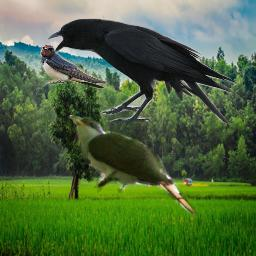Crow: (47, 18, 239, 125)
Cuckoo: (67, 115, 199, 216)
Swallow: (40, 43, 127, 95)
